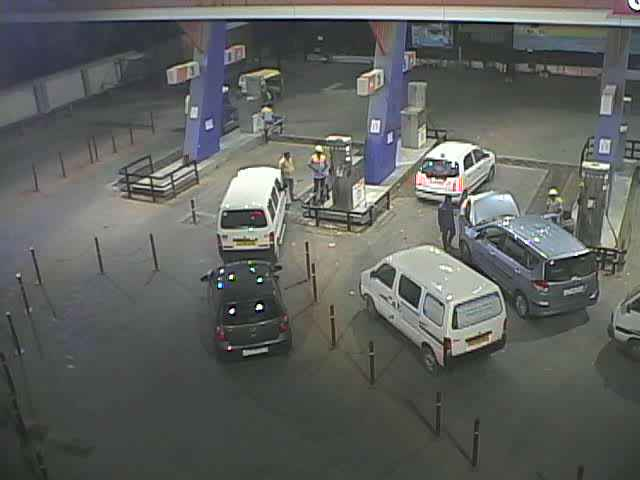Auto: (236, 63, 287, 113), (214, 80, 243, 139)
Car: (354, 236, 515, 381), (454, 183, 603, 326), (195, 251, 300, 372), (209, 158, 293, 271), (409, 135, 499, 212), (598, 273, 639, 364)
Others: (303, 138, 330, 211), (454, 189, 478, 265), (540, 183, 566, 226), (255, 98, 276, 148)
